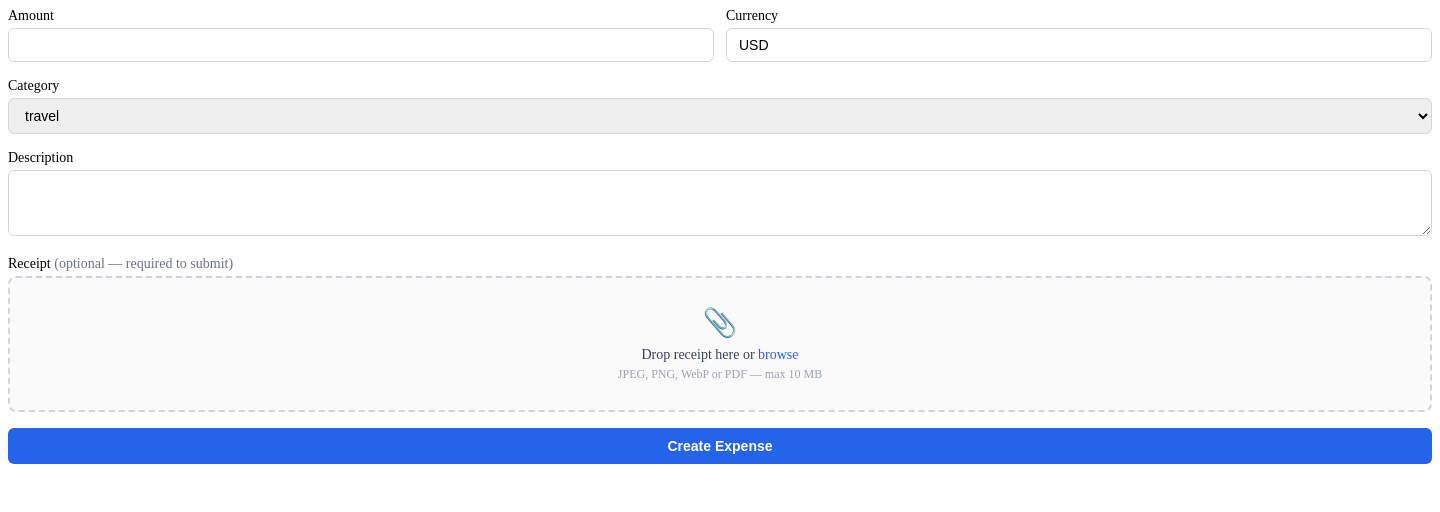
ExpenseForm › shows validation error when amount is negative
Step 1. Type "-50" into the number field labelled "Amount" → {"x": 361, "y": 45}, box [8,28,714,62]
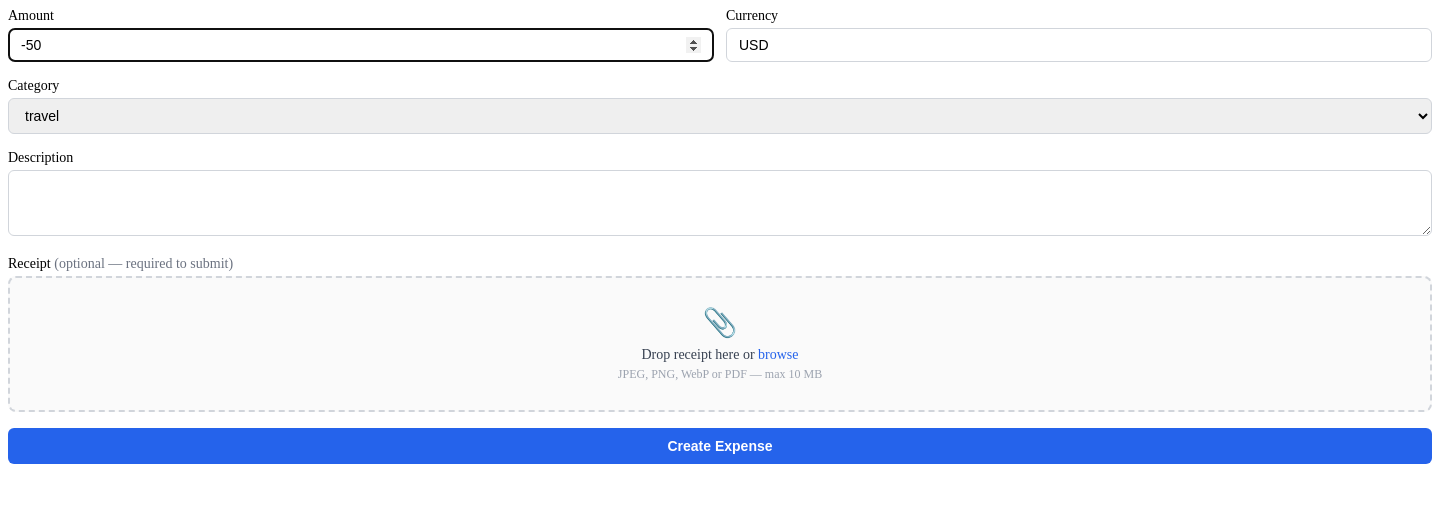
Step 2. Type "Test expense" into the text box labelled "Description" → {"x": 720, "y": 203}, box [8,170,1432,236]
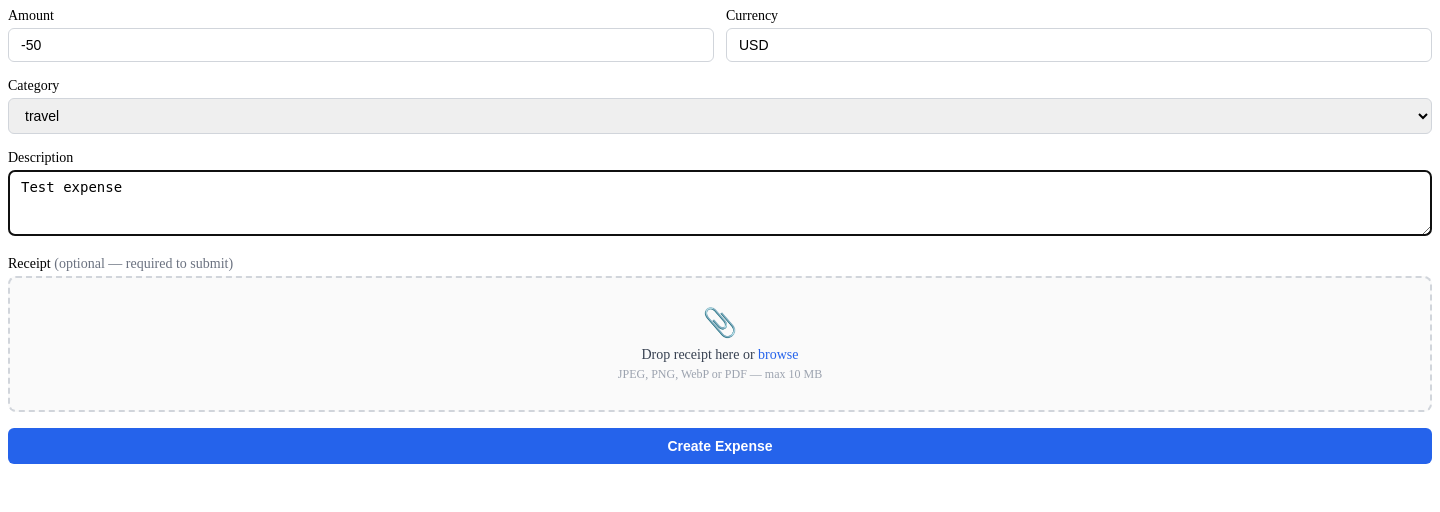
Step 3. Click the button "Create Expense" → {"x": 720, "y": 446}, box [8,428,1432,464]
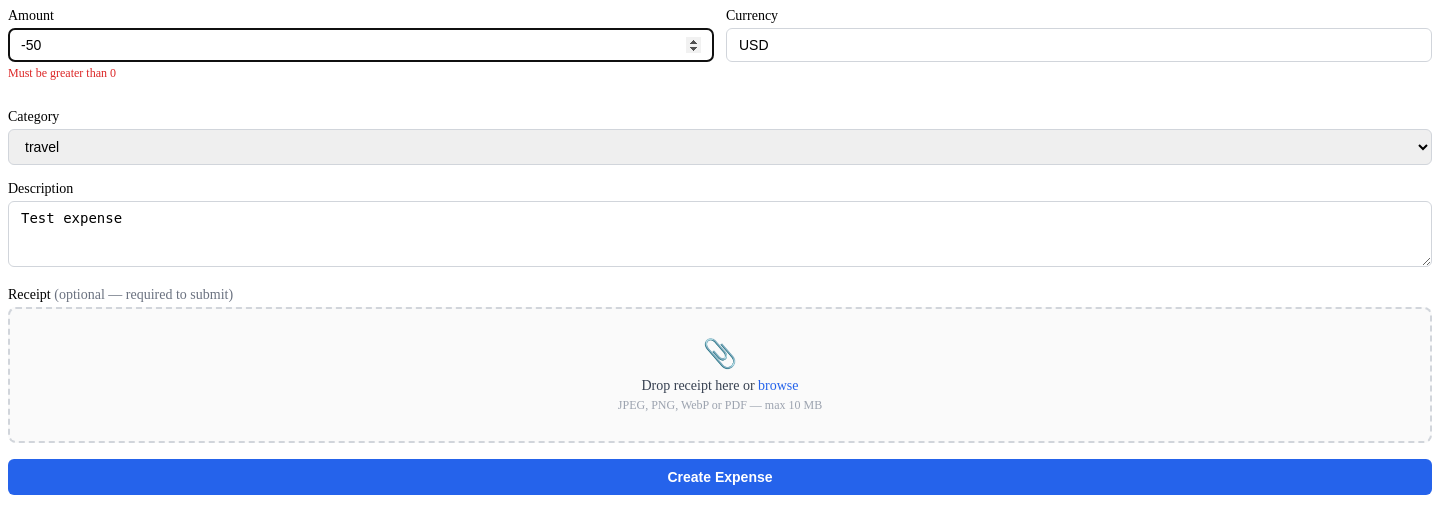
Result: the text "Must be greater than 0" is shown at [8,66,116,80]
